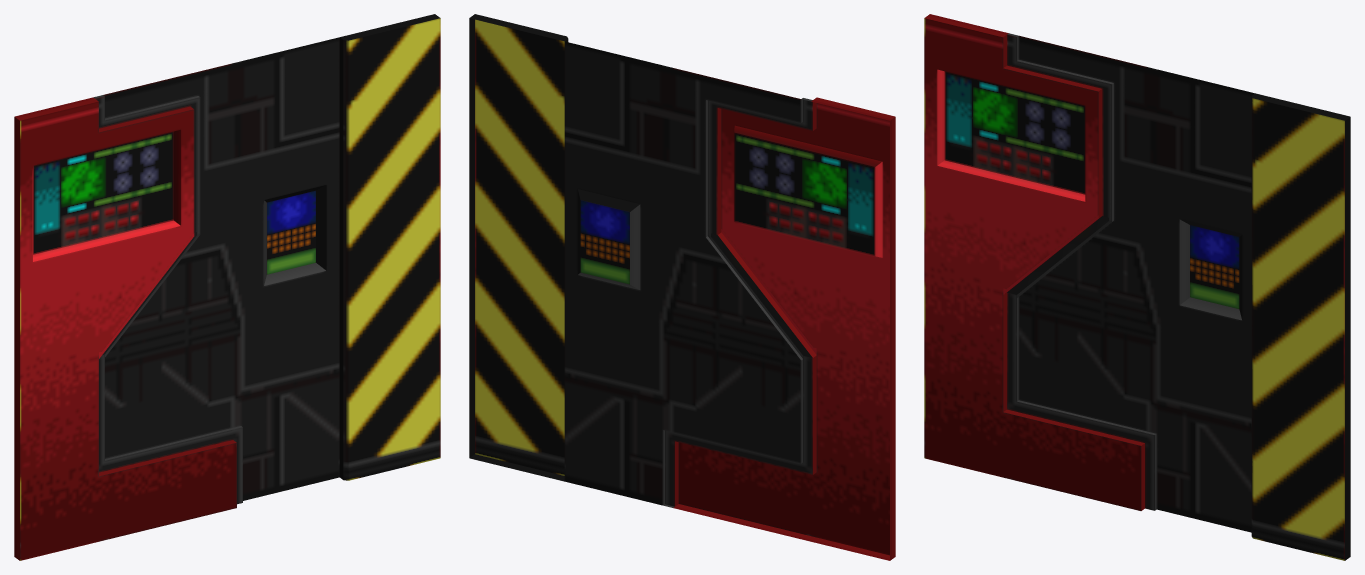
Rendered from reac3_1.fbx.
The picture shows the model from 3 angles, left to right: view 1: azimuth 30°, elevation 25°; view 2: azimuth 150°, elevation 25°; view 3: azimuth 330°, elevation 25°; orthographic projection.
Visible parts, largest first — view 1: reac3_1; view 2: reac3_1; view 3: reac3_1.
Part boxes in pixels (<box>): reac3_1: <box>14,14,440,560</box>; reac3_1: <box>469,14,895,560</box>; reac3_1: <box>924,14,1350,560</box>.
Bounding box in the file's own units: 256 × 256 × 10.
